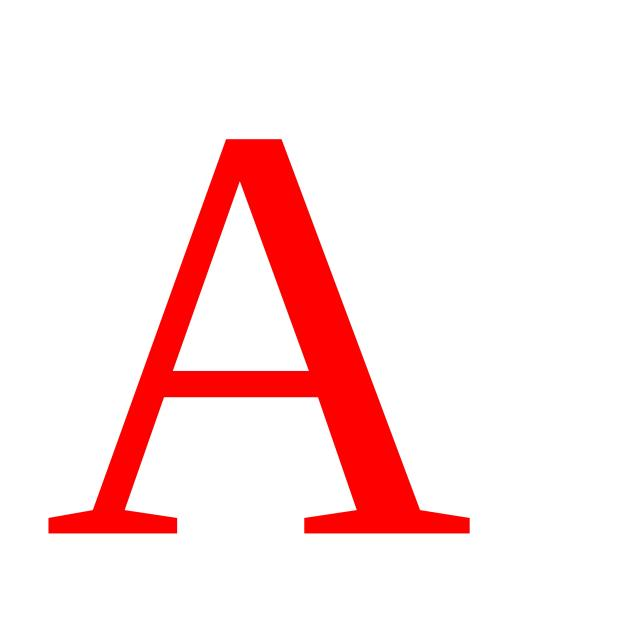A: (11, 68, 488, 595)
